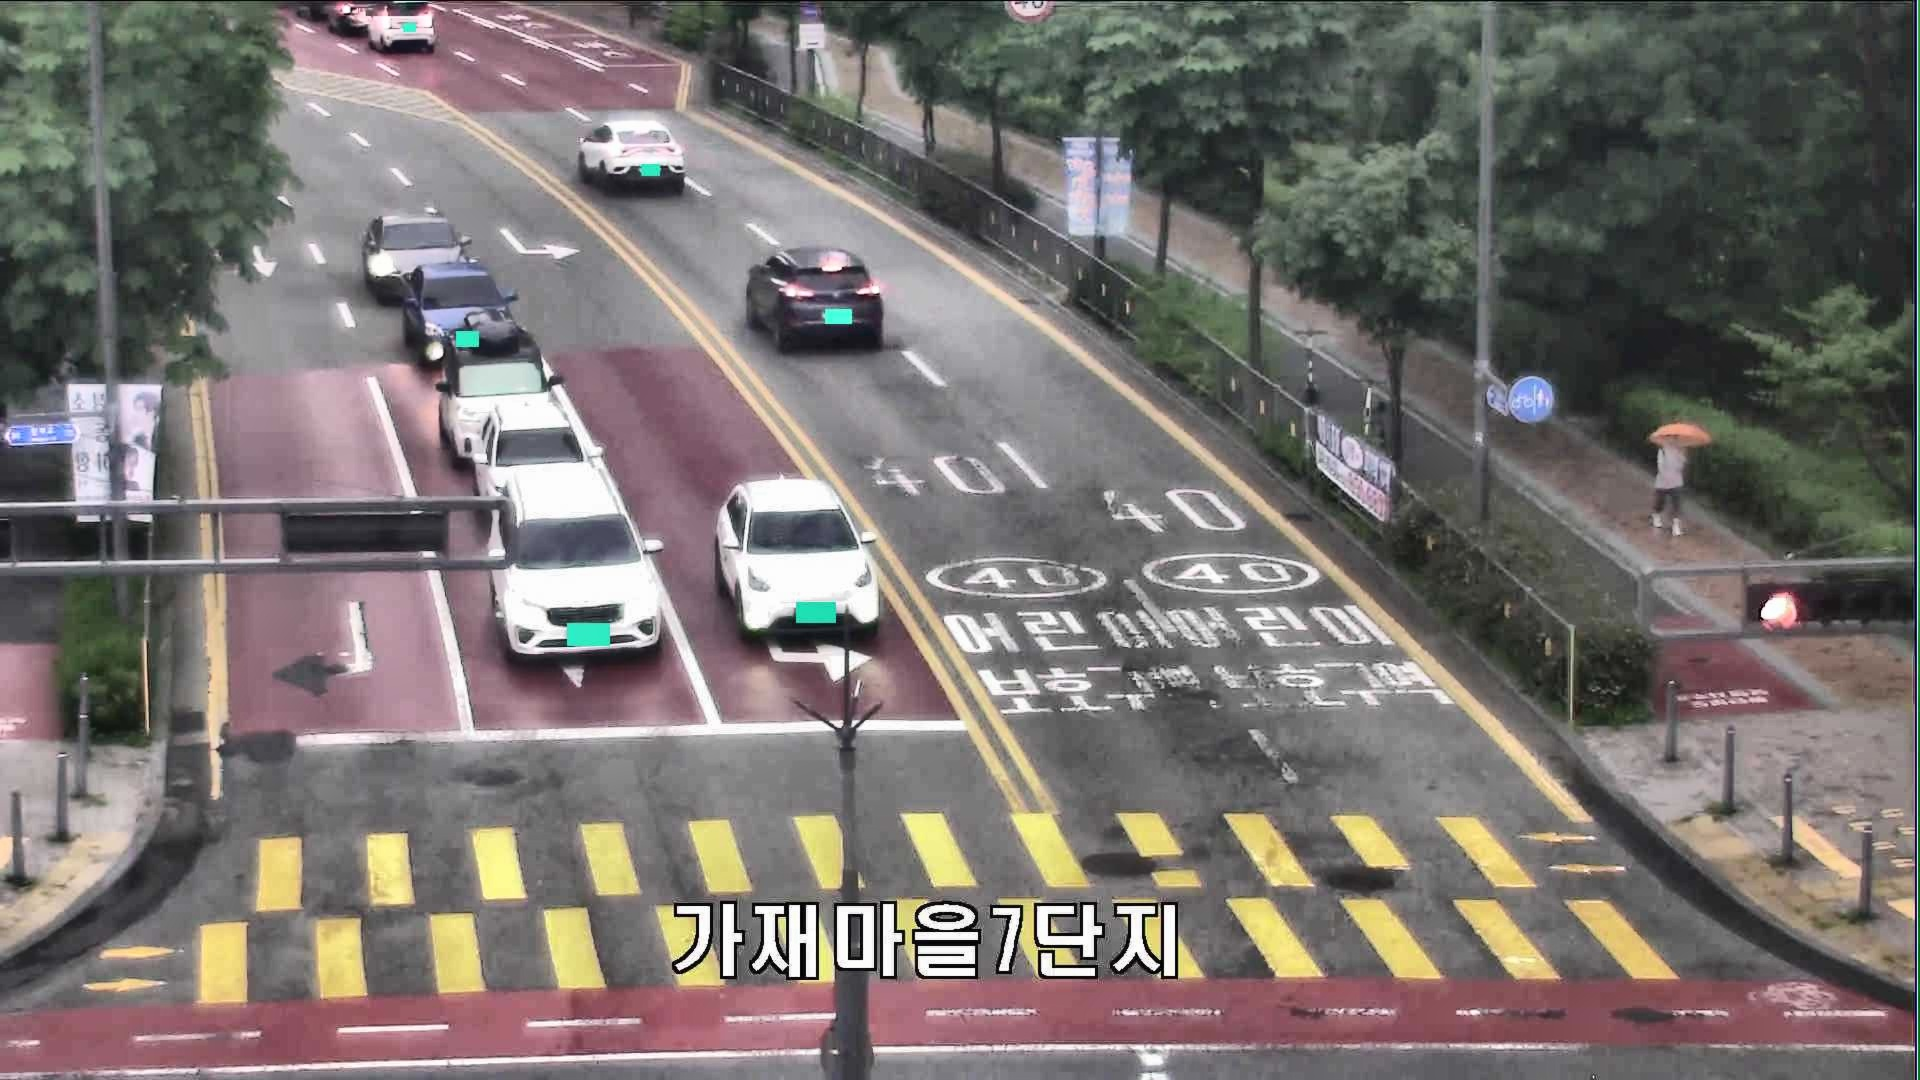um_sidewalk: (1646, 421, 1712, 539)
